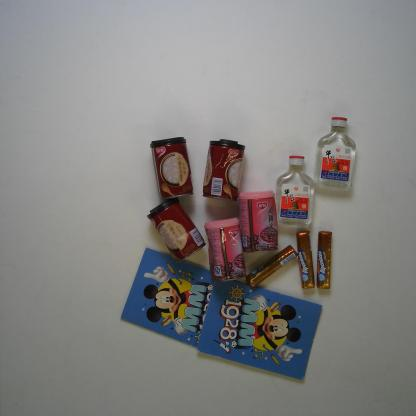Alcohol: (311, 112, 360, 192), (272, 154, 320, 230)
Candy: (242, 245, 299, 290), (313, 225, 336, 293), (295, 228, 317, 292)
Canned Food: (144, 196, 209, 264), (233, 186, 282, 256), (146, 134, 196, 202), (200, 216, 248, 284), (201, 137, 247, 202)
Stationery: (195, 272, 325, 384), (118, 245, 222, 352)
